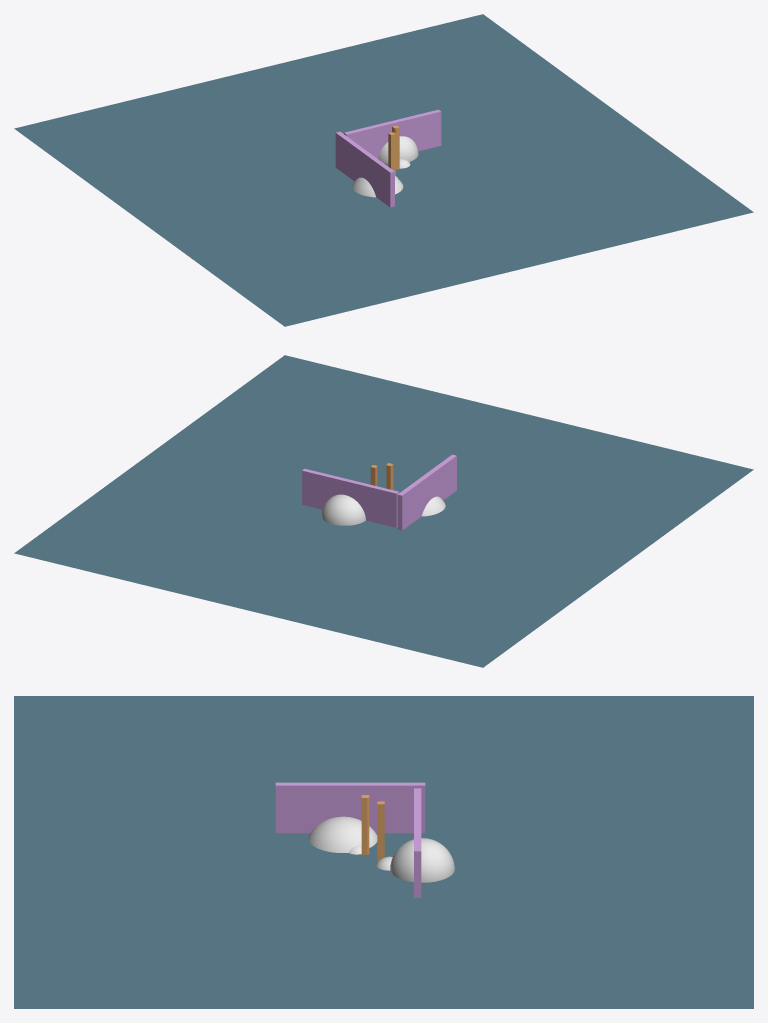
Rendered from Hollow.glb.
3 renders of one model, top to bottom at view 1: azimuth 30°, elevation 25°; view 2: azimuth 150°, elevation 25°; view 3: azimuth 270°, elevation 25°, orthographic. The views are drawn at different scales.
Parts seen in each view (by area): view 1: Plane, Cube.007, Cube.006, Cube.003; view 2: Plane, Cube.007, Cube.006, Cube.003; view 3: Plane, Cube.006, Cube.003, Cube.005, Cube.007, Cube.
Part boxes in pixels (x1,y1,x2,y2): Plane: (14,14,753,326); Cube.007: (344,109,441,158); Cube.006: (335,131,394,207); Cube.003: (378,136,418,163); Plane: (14,355,753,667); Cube.007: (302,468,399,527); Cube.006: (397,454,456,530); Cube.003: (321,494,365,525); Plane: (14,696,753,1008); Cube.006: (275,782,425,833); Cube.003: (390,838,454,882); Cube.005: (308,816,377,852); Cube.007: (414,788,421,897); Cube: (361,795,369,854).
Size of the model in its own units: 200 by 33.14 by 200.
